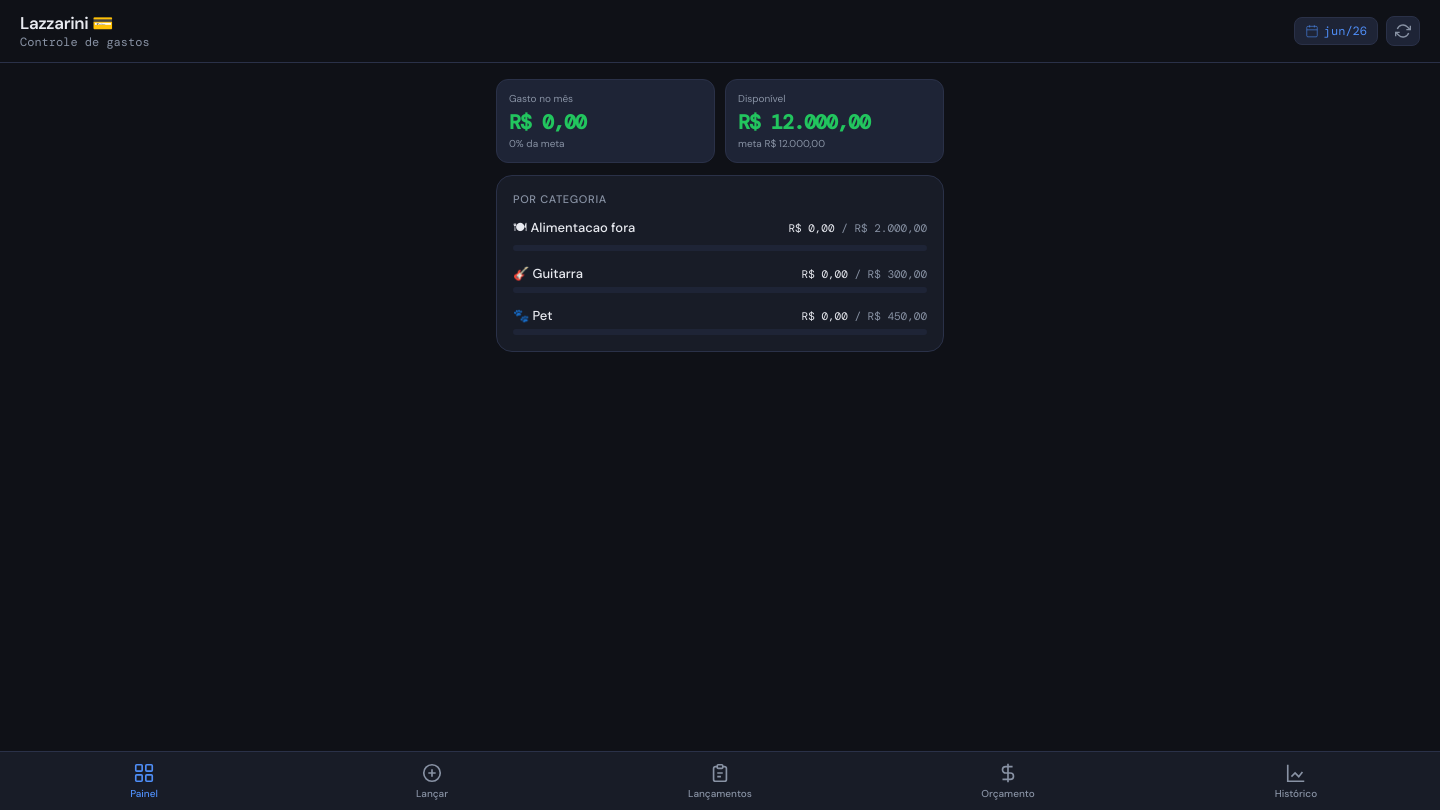
Test: Lançamentos › mês sem lançamentos mostra o vazio
Expected: the text "Por categoria" is shown, [513,192,607,206]
Step 1. Click the button "Lançamentos" → x=720, y=781, box [576,752,864,809]
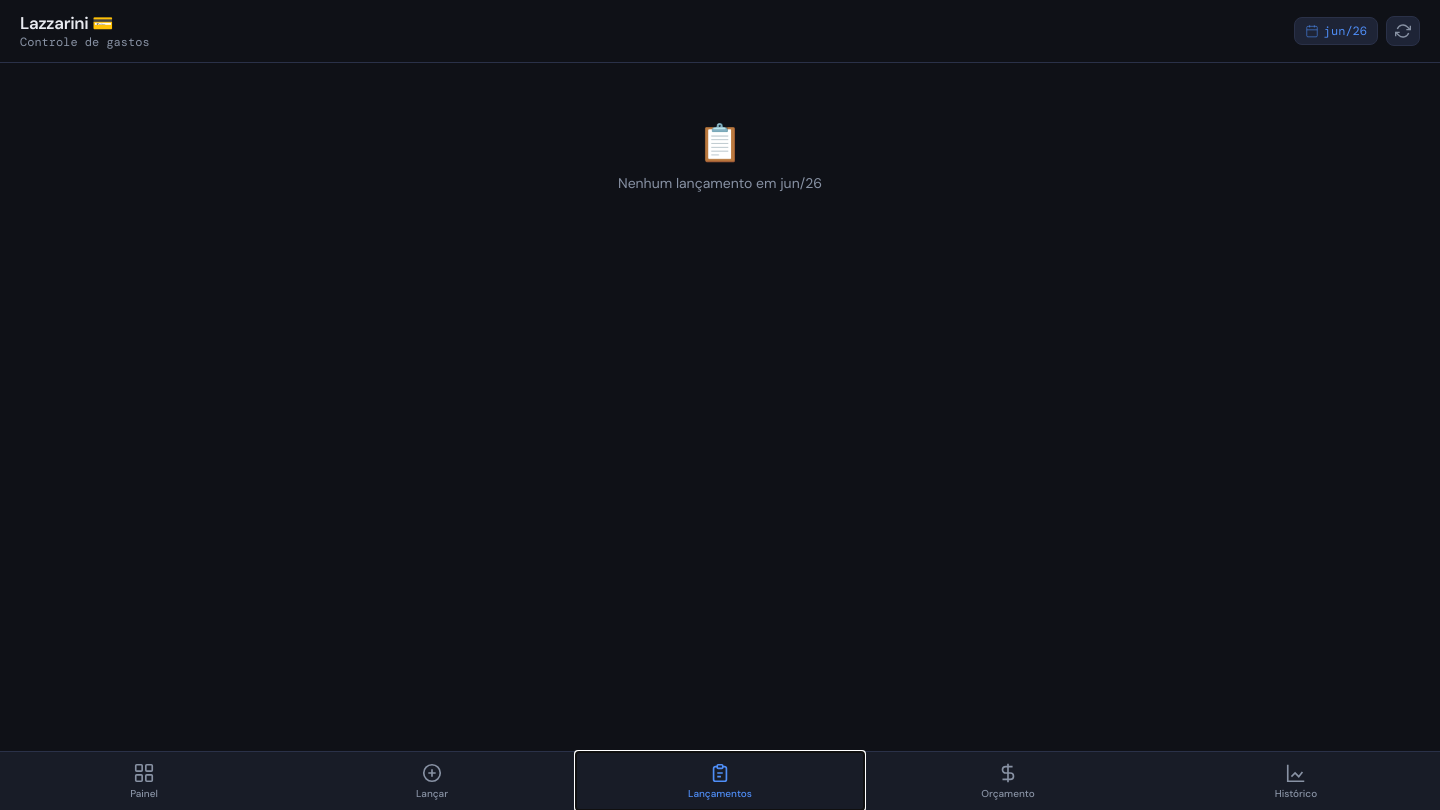
Expected: the text "Nenhum lançamento em jun/26" is shown, [618,174,822,192]
